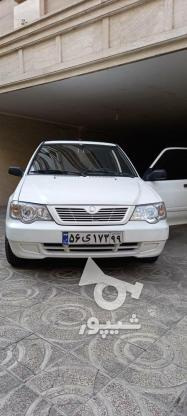car: (63, 231, 124, 243)
